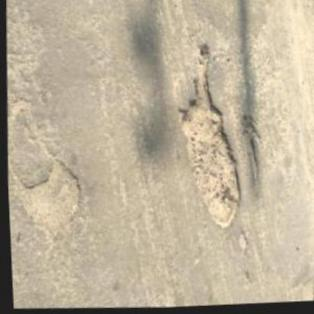Hueco: (169, 42, 248, 235), (7, 157, 82, 235), (235, 115, 262, 186), (235, 235, 247, 257)
